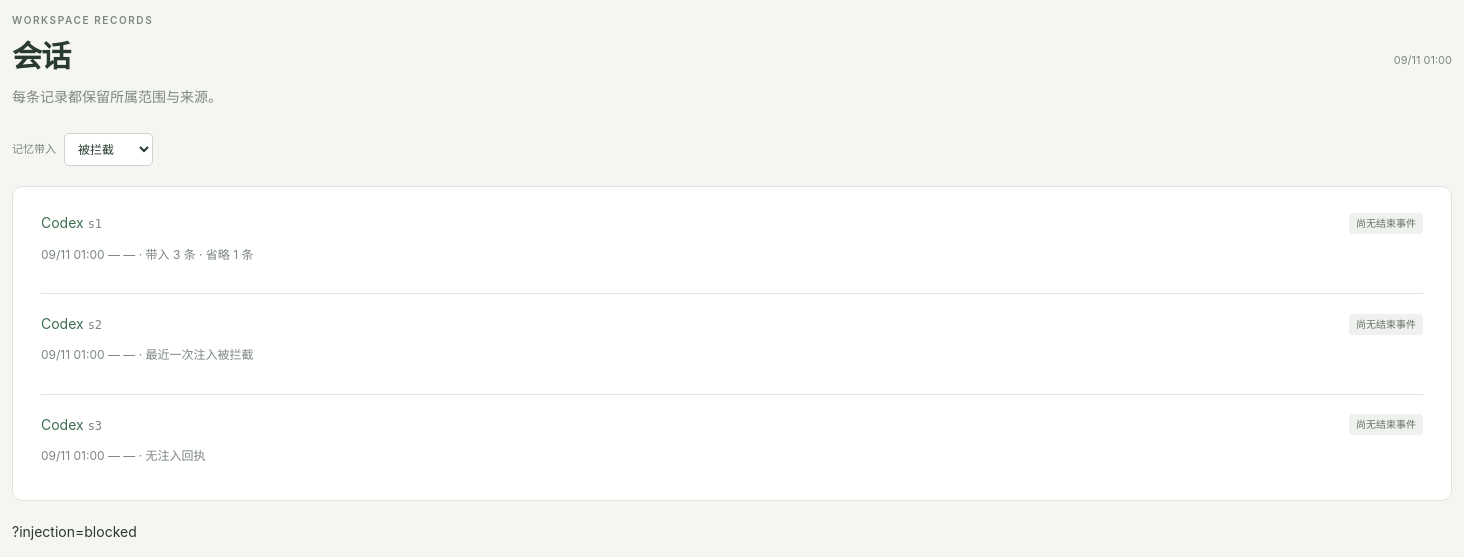
Test case: session injection filter › passes the filter to the API and labels each row by its latest receipt
The image size is (1464, 557).
Expected: the text "09/11 01:00 — — · 带入 3 条 · 省略 1 条" is shown, [41, 247, 254, 262]
Expected: the text "09/11 01:00 — — · 最近一次注入被拦截" is shown, [41, 347, 254, 362]
Select "无回执" in the dropdown at (108, 150), box [64, 133, 153, 166]
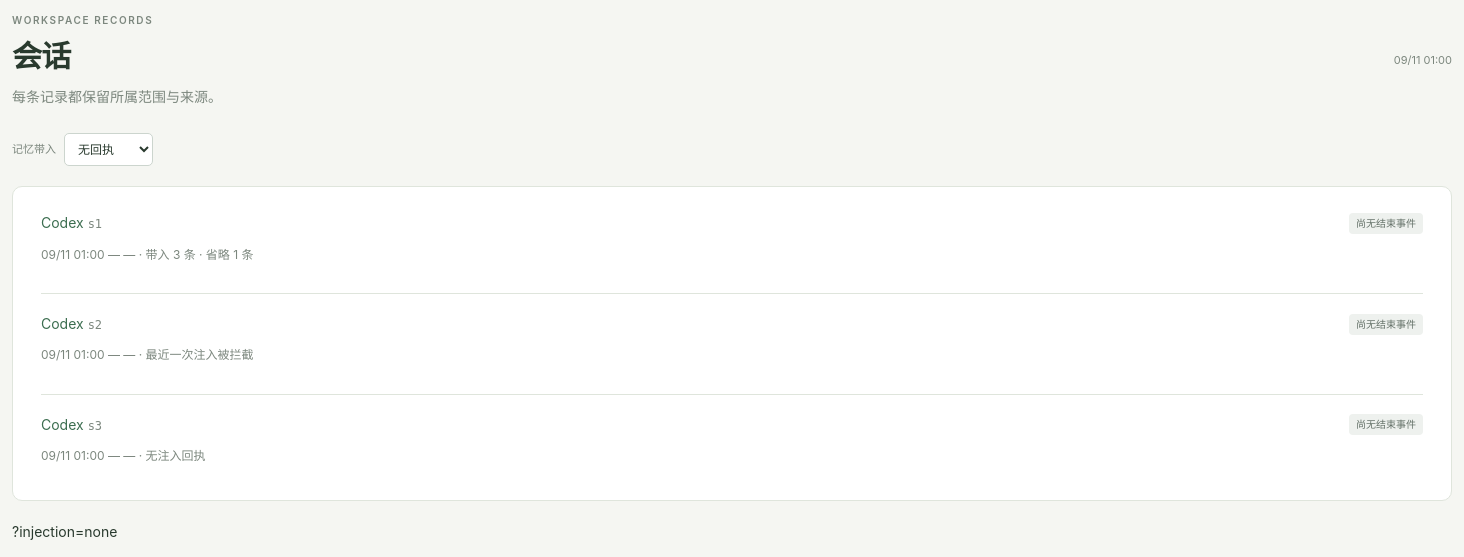
Result: the text with test id "where" shows "injection=none" at [12, 523, 117, 540]
